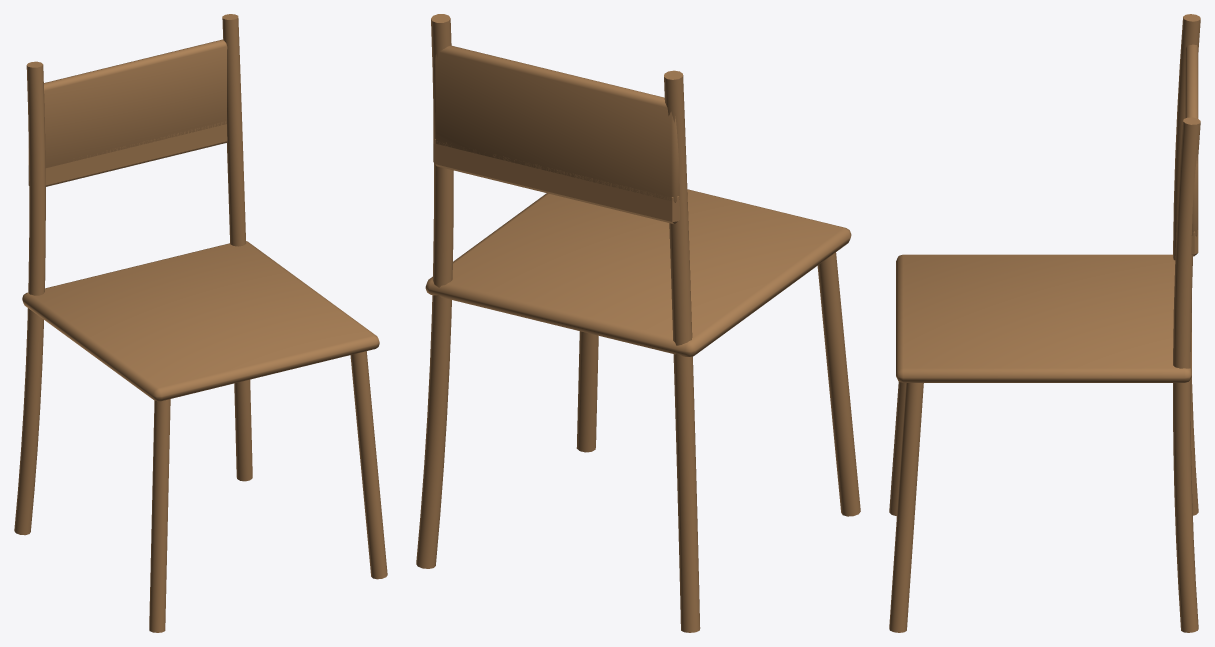
Rendered from i_chair_3.glb.
The picture shows the model from 3 angles, left to right: view 1: azimuth 30°, elevation 25°; view 2: azimuth 150°, elevation 25°; view 3: azimuth 270°, elevation 25°; orthographic projection. The views are drawn at different scales.
Parts seen in each view (by area): view 1: o.004, o.005, o.001, o.003, o.002, o, o.006; view 2: o.004, o.005, o.001, o.003, o.006, o, o.002; view 3: o.004, o.003, o.002, o.001, o.005, o.
Part boxes in pixels (<box>): o.004: <box>22,241,379,401</box>; o.005: <box>28,39,227,167</box>; o.001: <box>14,61,45,535</box>; o.003: <box>222,14,252,481</box>; o.002: <box>350,351,387,579</box>; o: <box>149,399,170,632</box>; o.006: <box>28,121,227,186</box>; o.004: <box>425,189,851,356</box>; o.005: <box>433,45,679,202</box>; o.001: <box>664,70,700,632</box>; o.003: <box>416,14,453,568</box>; o.006: <box>433,139,679,224</box>; o: <box>817,252,860,516</box>; o.002: <box>576,331,598,452</box>; o.004: <box>896,254,1191,382</box>; o.003: <box>1173,117,1200,632</box>; o.002: <box>889,383,923,632</box>; o.001: <box>1173,14,1200,515</box>; o.005: <box>1185,44,1198,236</box>; o: <box>889,382,905,516</box>.
Size of the model in its own units: 0.4597 by 0.8621 by 0.4843.
